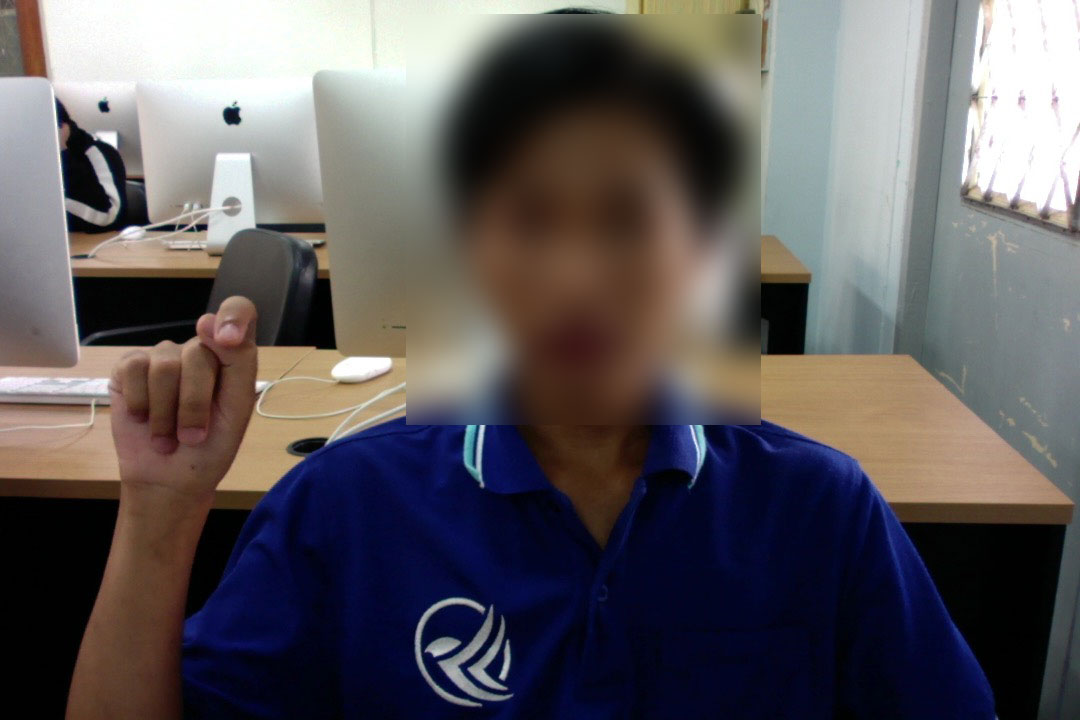tor: (103, 293, 262, 508)
